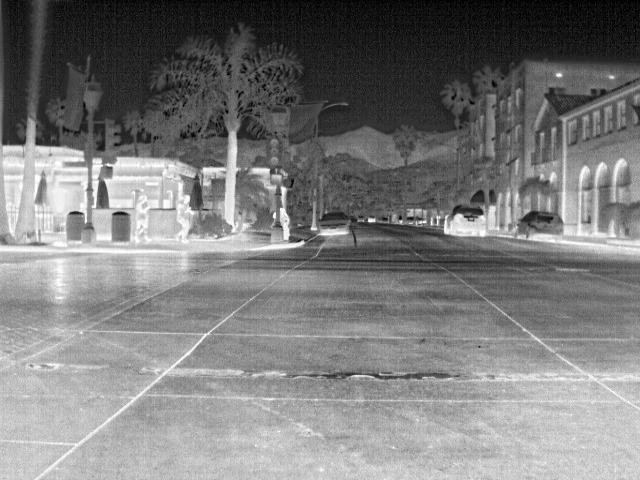car: (512, 211, 567, 242), (445, 204, 491, 239), (313, 210, 355, 238)
person: (175, 194, 195, 243), (135, 193, 154, 242), (278, 204, 291, 241)
